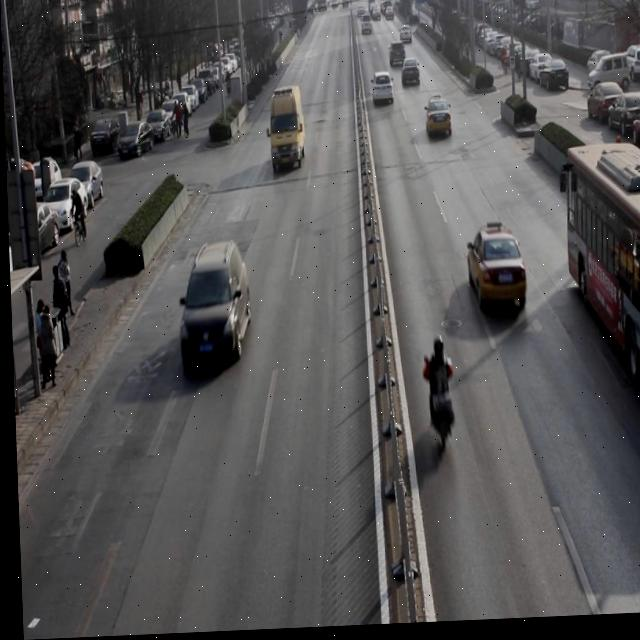car: (179, 245, 251, 379), (463, 228, 528, 325), (422, 101, 453, 150), (370, 72, 393, 111), (400, 61, 421, 93), (388, 42, 407, 76)
truck: (267, 89, 306, 179)
van: (561, 147, 640, 400)
